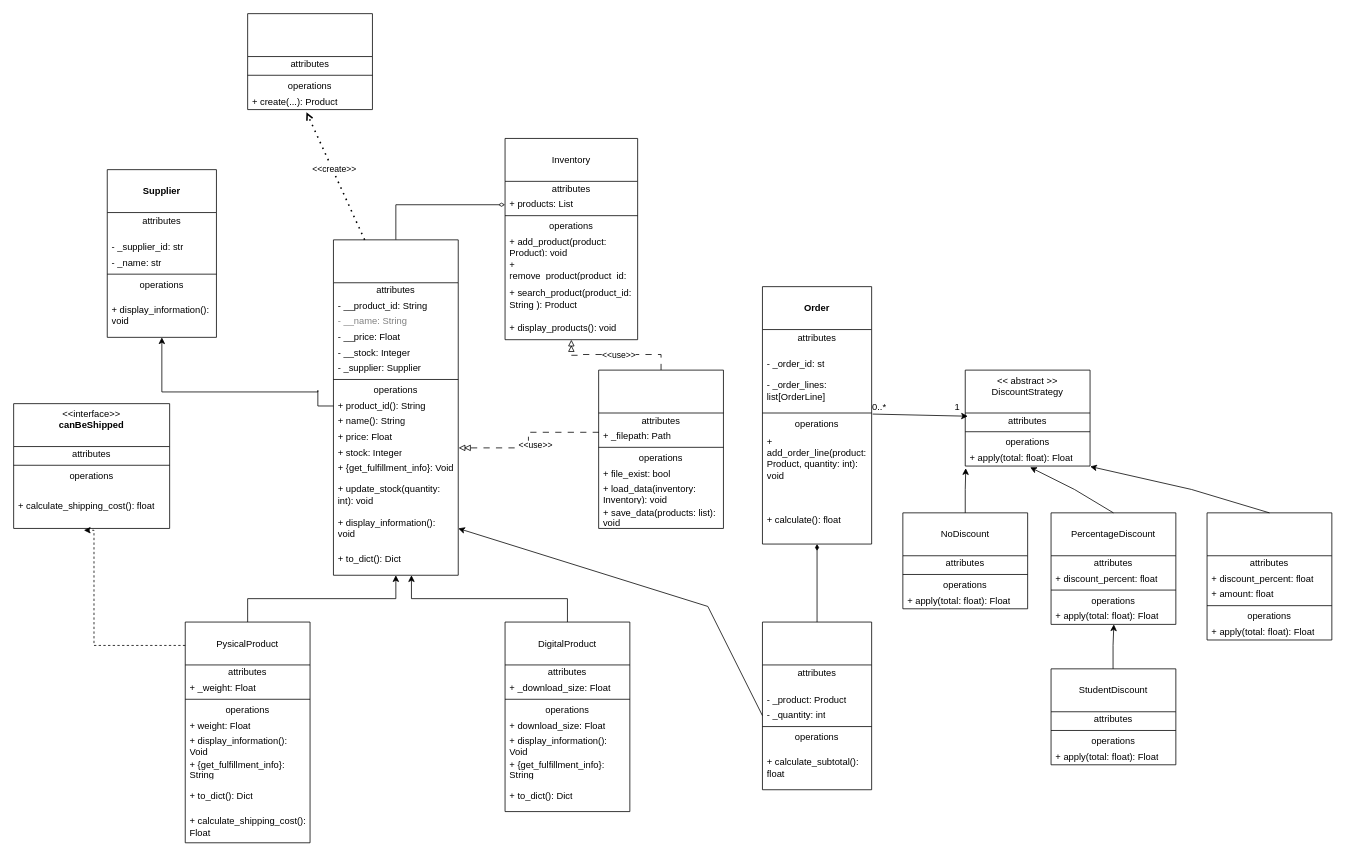
Some shapes in this 1346 by 856 pixel diagram are drawn without their labels. Each missing label, with the box of its shape:
<< abstract >> Product: (333, 239, 458, 575)
BulkDiscount: (1206, 512, 1332, 640)
FileHandler: (598, 369, 723, 528)
OrderLine: (762, 621, 872, 790)
ProductFactory: (247, 13, 372, 110)
